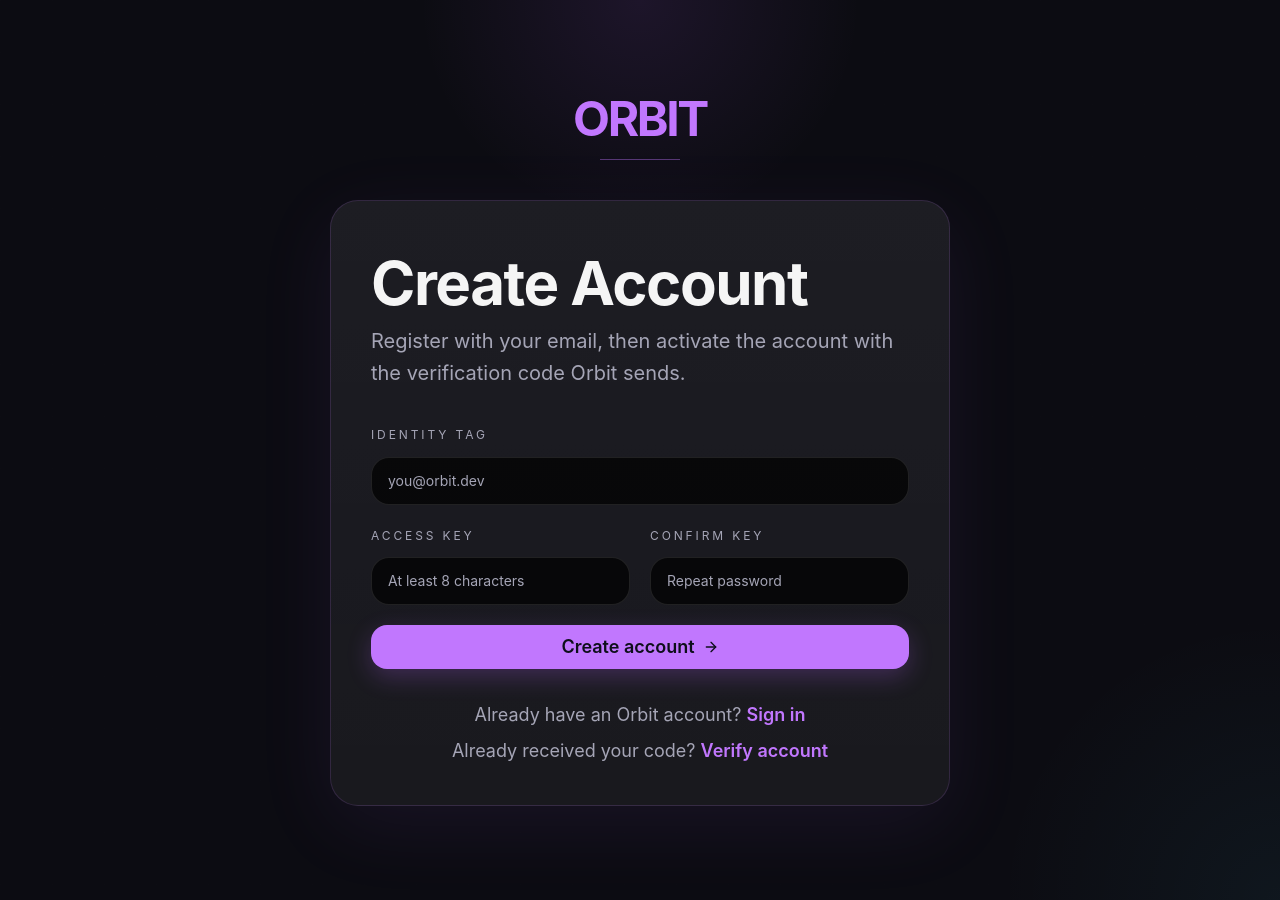
RegisterPage › shows a confirm password mismatch error
The width and height of the screenshot is (1280, 900).
Type "user@orbit.dev" into the field named "email". click: (640, 480)
box: top-left (371, 456), bottom-right (909, 504)
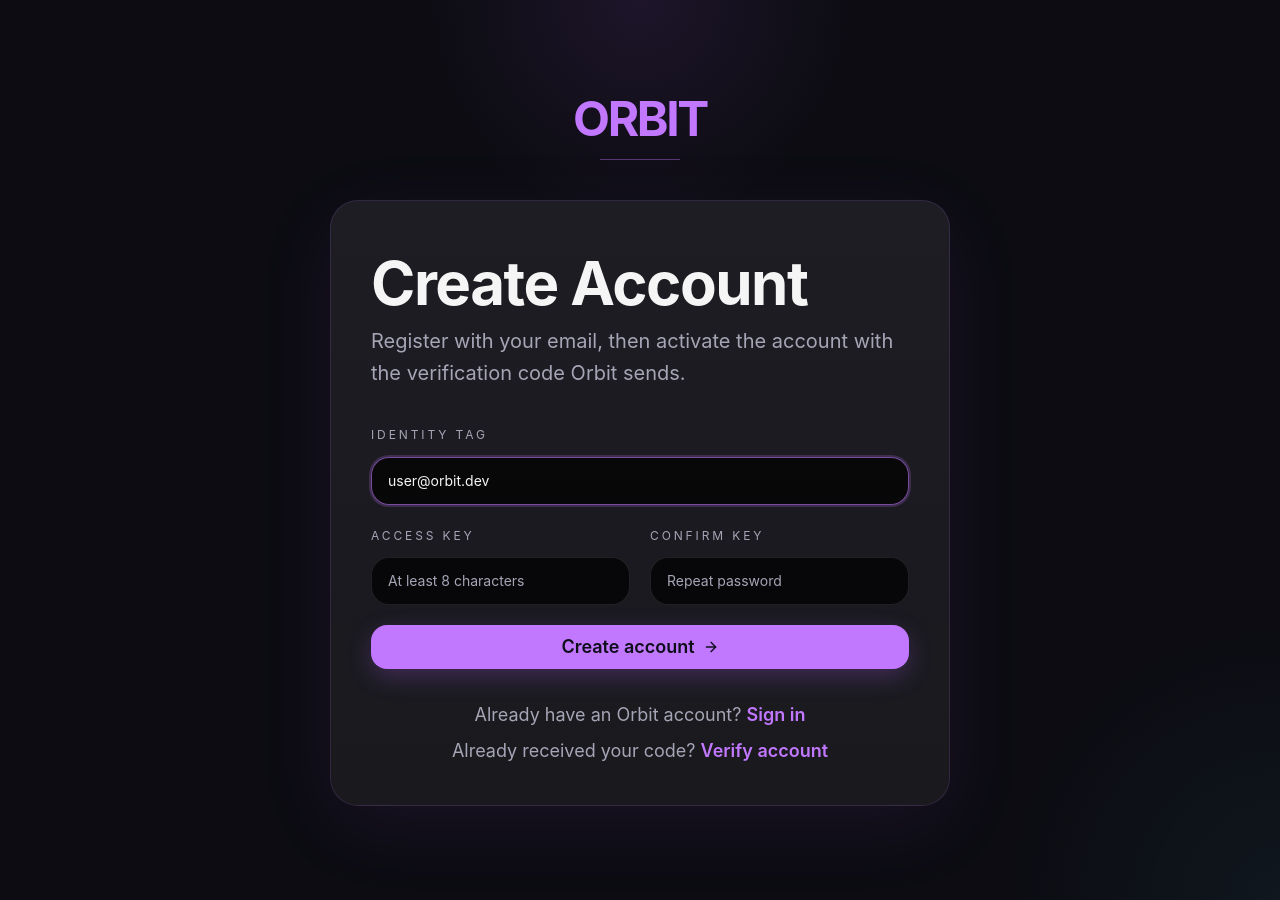
Type "secret123" into the password field named "password". click: (500, 580)
box: top-left (371, 556), bottom-right (630, 604)
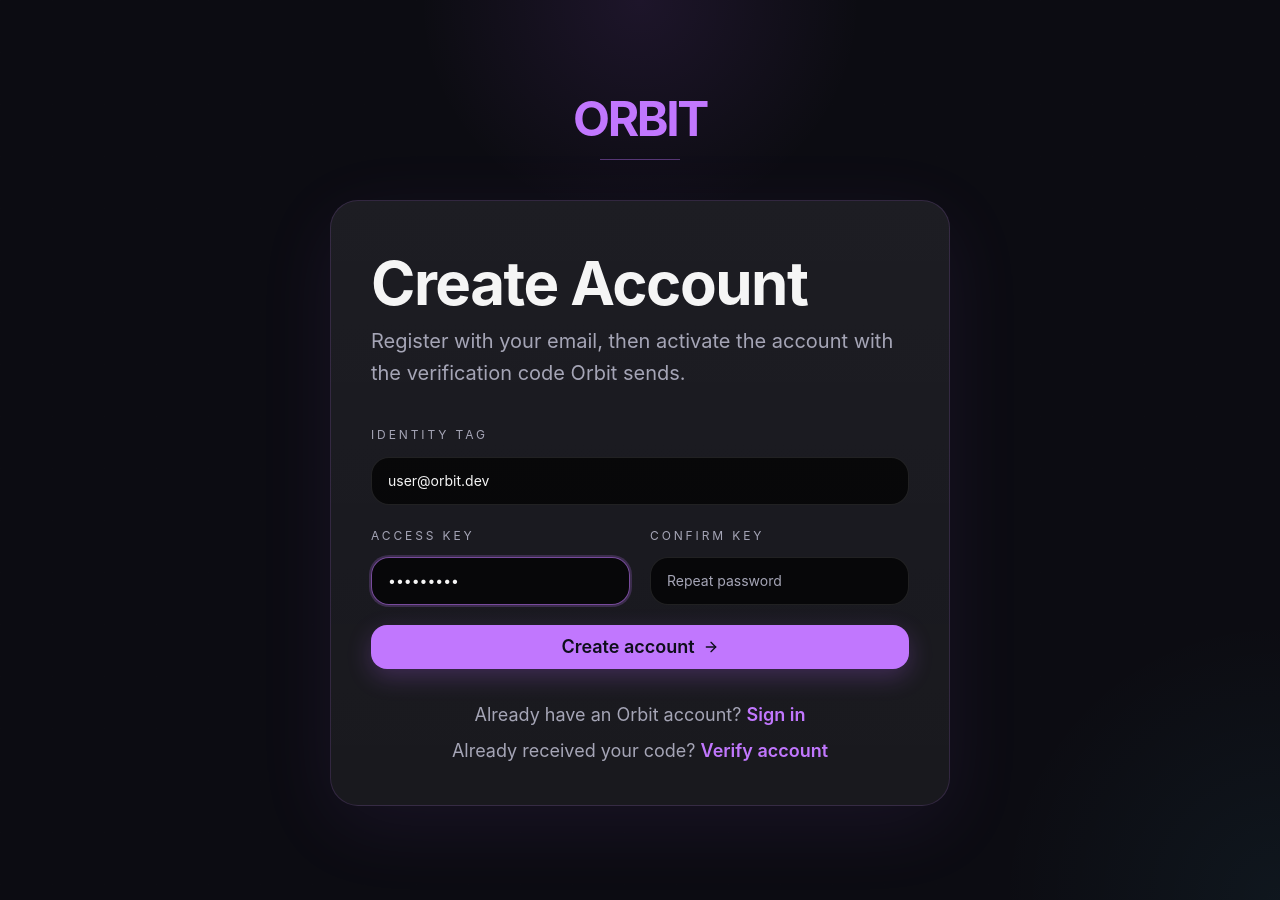
Type "secret999" into the password field named "confirm password". click: (780, 580)
box: top-left (650, 556), bottom-right (909, 604)
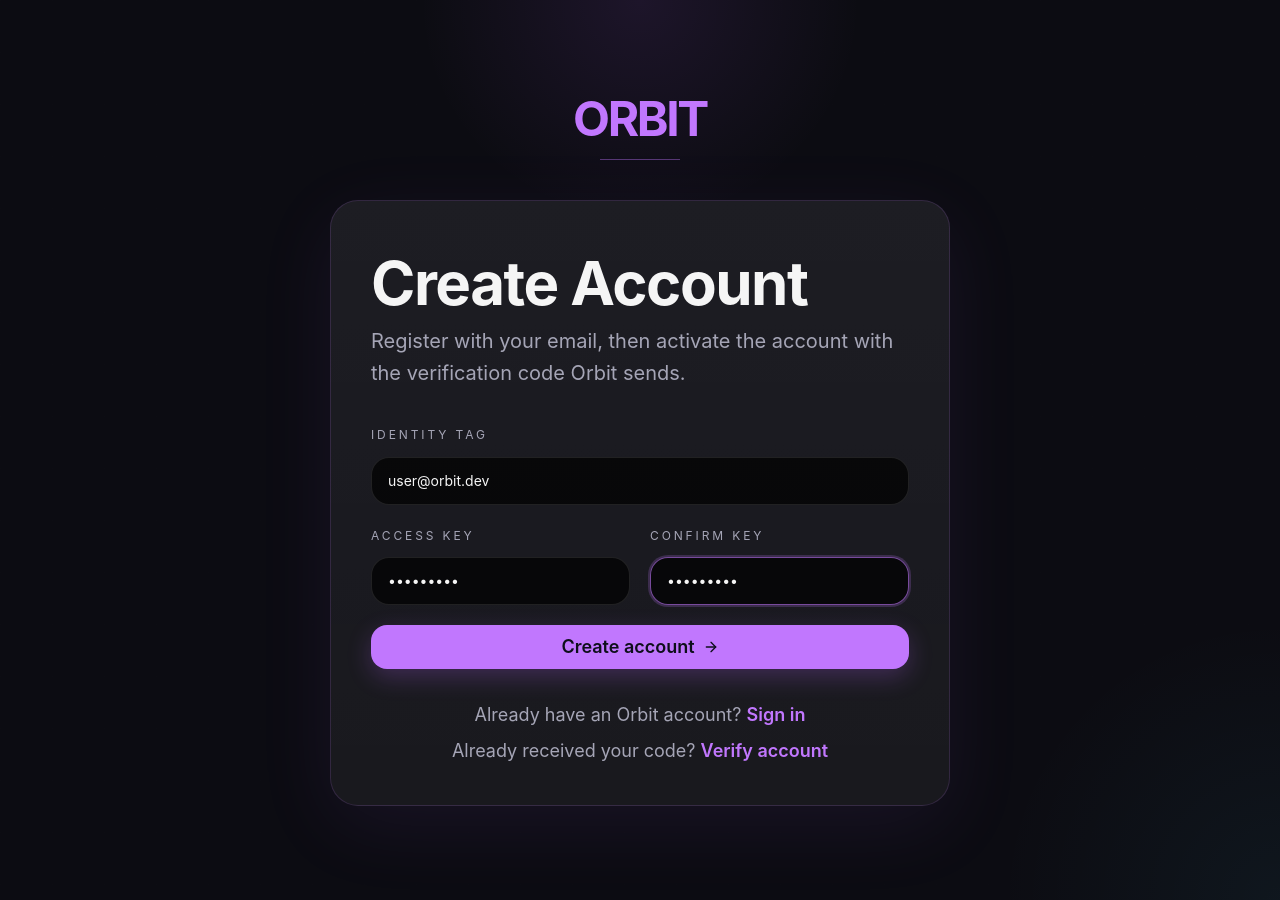
Click the button "Create account". click: (640, 646)
box: top-left (371, 624), bottom-right (909, 668)
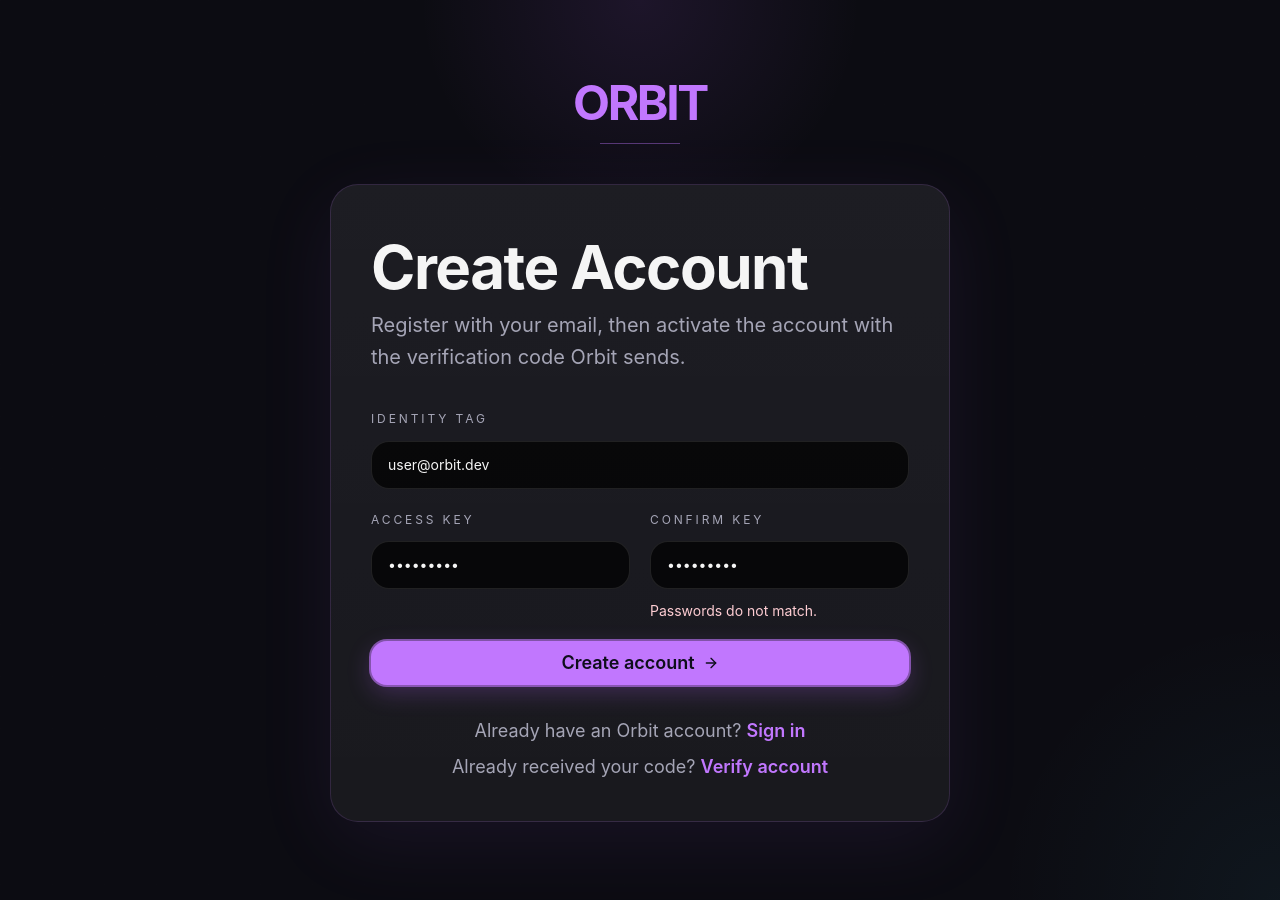
expect the text "Passwords do not match." is shown: met, box top-left (650, 602), bottom-right (817, 618)
